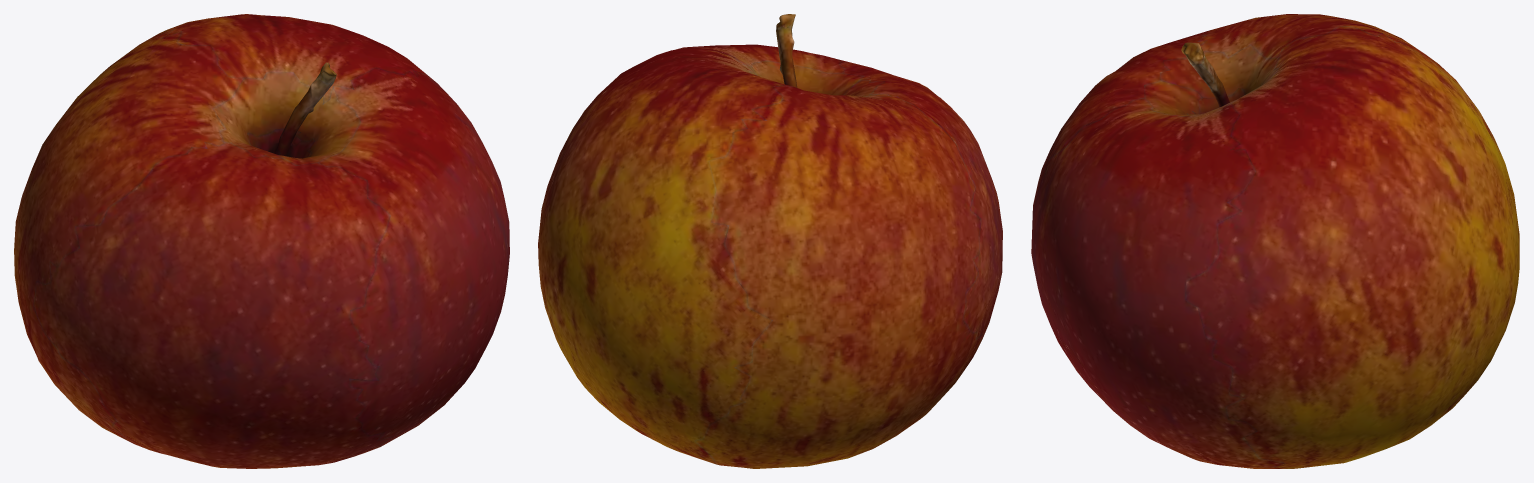
The model's file is food_apple_01.glb.
The picture shows the model from 3 angles, left to right: view 1: azimuth 30°, elevation 25°; view 2: azimuth 150°, elevation 25°; view 3: azimuth 270°, elevation 25°; orthographic projection. The views are drawn at different scales.
Visible parts, largest first — view 1: food_apple_01; view 2: food_apple_01; view 3: food_apple_01.
Boxes of the visible parts, x1,y1,x2,y2 form: food_apple_01: [14, 14, 509, 468]; food_apple_01: [538, 14, 1002, 468]; food_apple_01: [1031, 14, 1519, 468].
Bounding box in the file's own units: 0.0976 × 0.0854 × 0.0958.
1 material, 1 textured.
